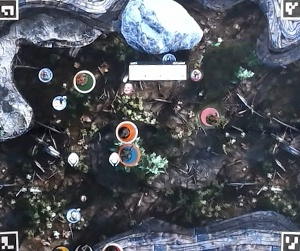green: (72, 70, 95, 93)
light_blue_orange: (118, 144, 141, 167)
orange: (117, 121, 140, 144)
pink_green: (200, 105, 223, 128)
